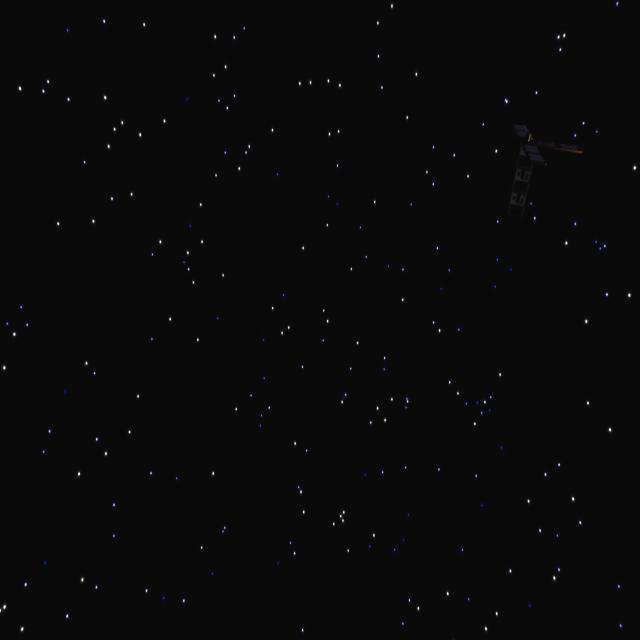medium_debris: (474, 121, 590, 223)
